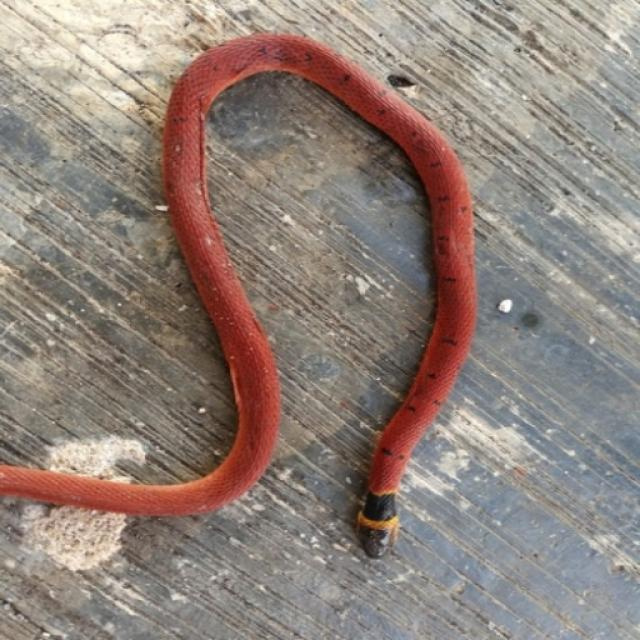snake: (4, 17, 555, 584)
